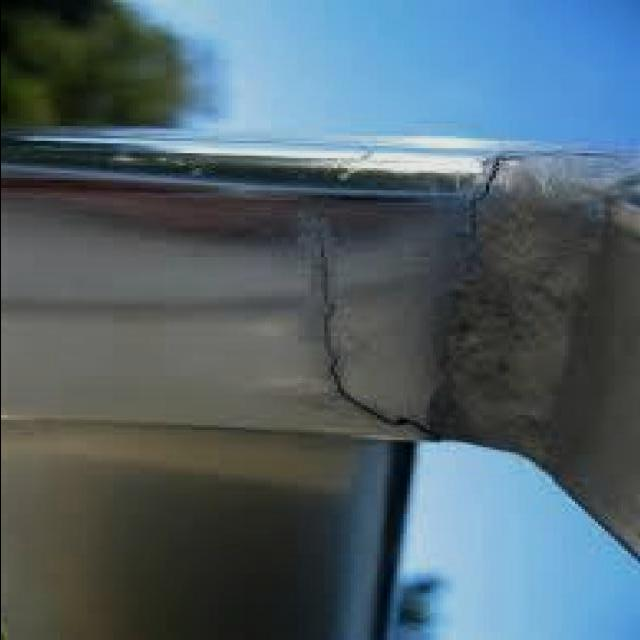defect: (308, 217, 448, 444), (463, 150, 529, 258)
